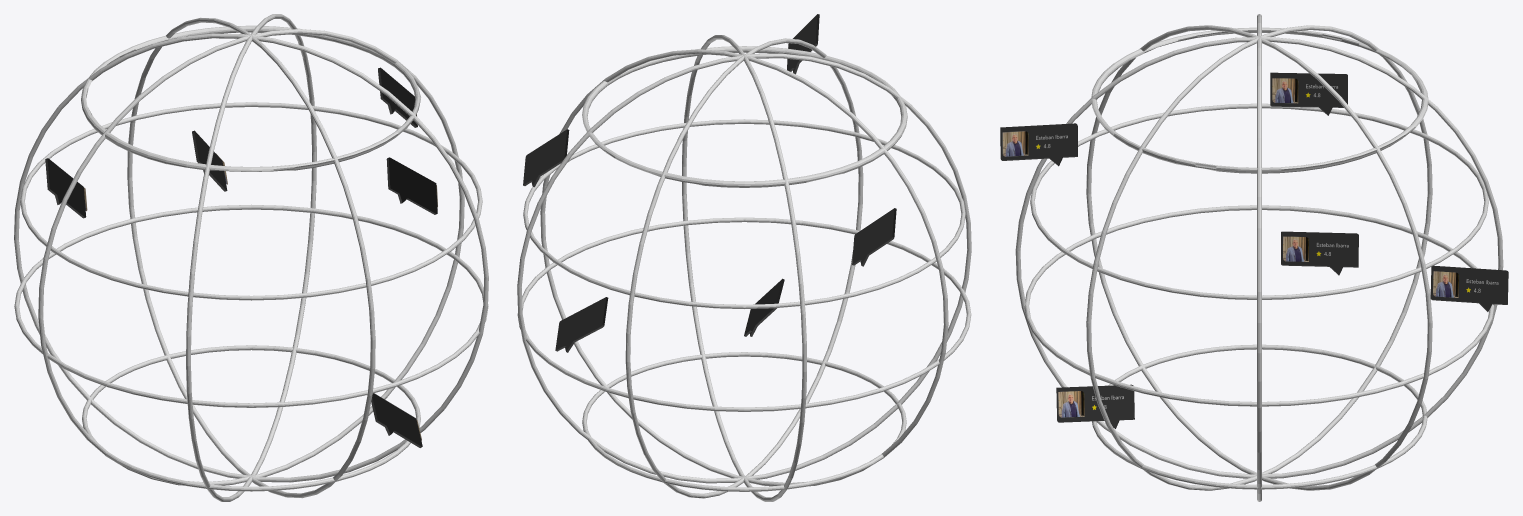
The model's file is sphere-set-testimonials2.glb.
The picture shows the model from 3 angles, left to right: view 1: azimuth 30°, elevation 25°; view 2: azimuth 150°, elevation 25°; view 3: azimuth 270°, elevation 25°; orthographic projection. The views are drawn at different scales.
Parts seen in each view (by area): view 1: sphere, Plane.007, Plane.004, Plane.008, Plane.001, Plane.003; view 2: sphere, Plane.003, Plane.001, Plane.008, Plane.004, Plane.007; view 3: sphere, Plane.003, Plane.001, Plane.007, Plane.004, Plane.008.
Boxes of the visible parts, x1,y1,x2,y2 form: sphere: [14, 14, 488, 501]; Plane.007: [386, 157, 437, 214]; Plane.004: [371, 393, 422, 447]; Plane.008: [45, 158, 87, 218]; Plane.001: [378, 67, 417, 127]; Plane.003: [192, 130, 227, 191]; sphere: [517, 35, 971, 501]; Plane.003: [555, 297, 608, 352]; Plane.001: [523, 129, 569, 187]; Plane.008: [852, 208, 896, 266]; Plane.004: [744, 278, 784, 336]; Plane.007: [787, 14, 819, 74]; sphere: [1015, 14, 1503, 501]; Plane.003: [1430, 265, 1508, 311]; Plane.001: [1281, 231, 1358, 275]; Plane.007: [1000, 123, 1077, 166]; Plane.004: [1056, 384, 1134, 428]; Plane.008: [1270, 72, 1347, 115].
Size of the model in its own units: 2.02 by 2.02 by 2.1.
Materials: 10 (5 with a texture image).
